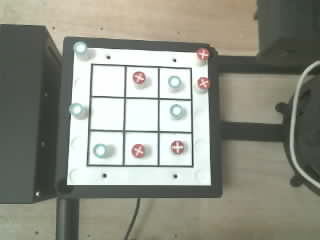blue circle: (69, 103, 84, 117), (170, 104, 183, 118), (73, 41, 87, 54), (93, 144, 106, 157), (168, 76, 181, 88)
board: (67, 42, 211, 185)
cells: (125, 132, 157, 165), (89, 132, 122, 164), (160, 133, 191, 165), (125, 99, 157, 130), (92, 65, 124, 96), (159, 100, 191, 131), (91, 98, 123, 129), (159, 68, 190, 98), (126, 67, 157, 97)
grid: (87, 64, 193, 167)
red cross: (197, 77, 211, 90), (171, 140, 184, 153), (131, 144, 144, 157), (196, 48, 209, 60), (133, 71, 145, 84)
